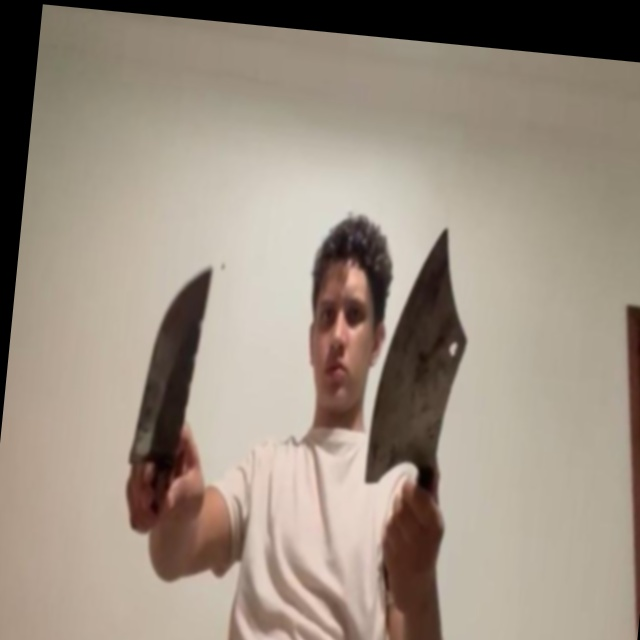Sharp-Object: (363, 217, 480, 495), (127, 258, 214, 471)
